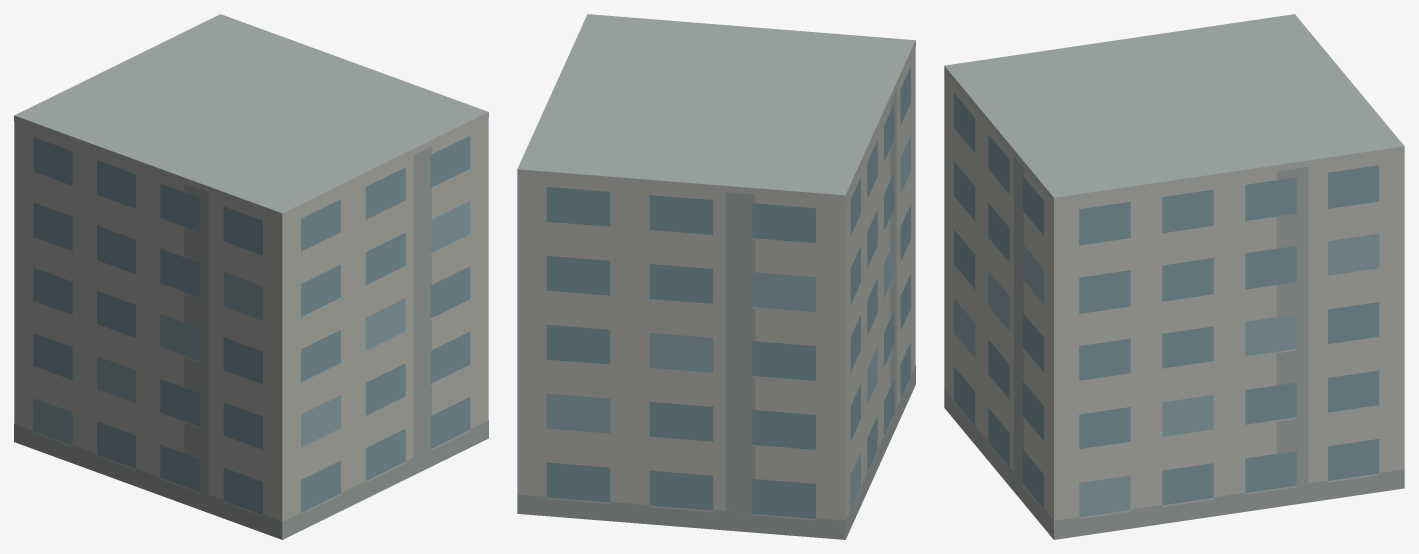
The model's file is survey-upis-32726739.glb.
3 views of the same model, side by side, from view 1: azimuth 30°, elevation 25°; view 2: azimuth 150°, elevation 25°; view 3: azimuth 270°, elevation 25° (orthographic). The views are drawn at different scales.
Parts seen in each view (by area): view 1: survey-upis-32726739.tmp; view 2: survey-upis-32726739.tmp; view 3: survey-upis-32726739.tmp.
Boxes of the visible parts, x1,y1,x2,y2 form: survey-upis-32726739.tmp: (14, 14, 488, 539); survey-upis-32726739.tmp: (517, 14, 915, 539); survey-upis-32726739.tmp: (944, 14, 1404, 539).
Size of the model in its own units: 15.1 by 13.1 by 15.99.
